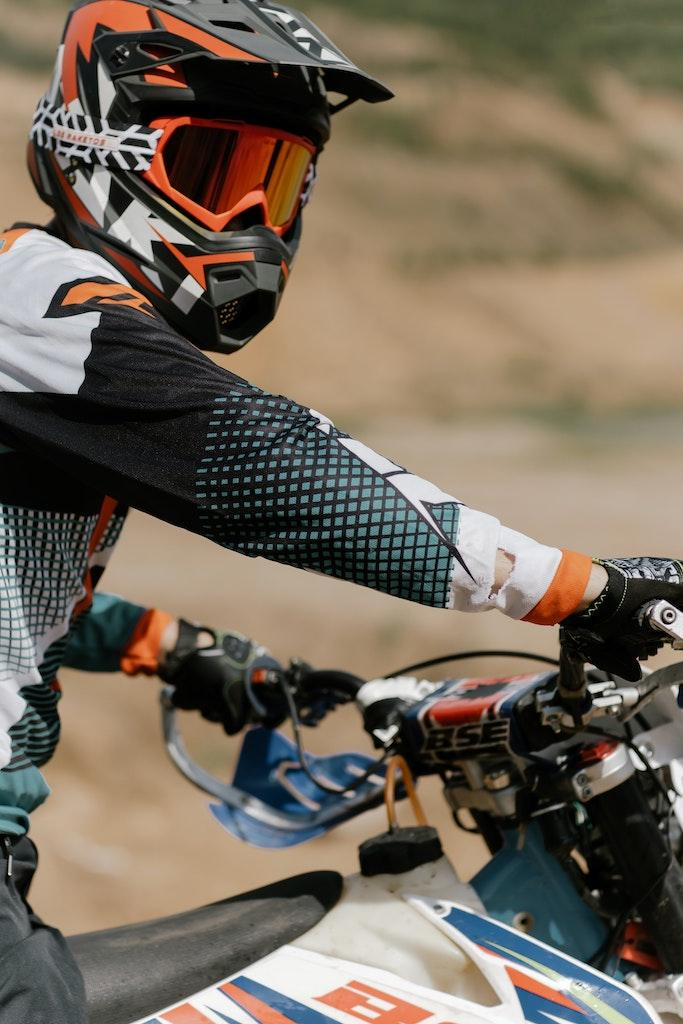helmet: (26, 0, 397, 357)
